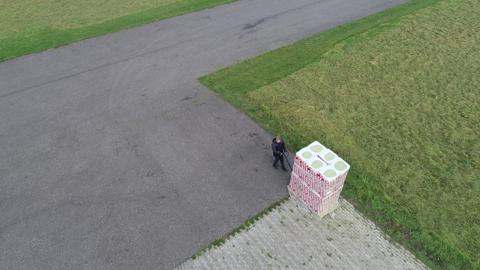RockwoolPallet: (288, 140, 352, 218)
